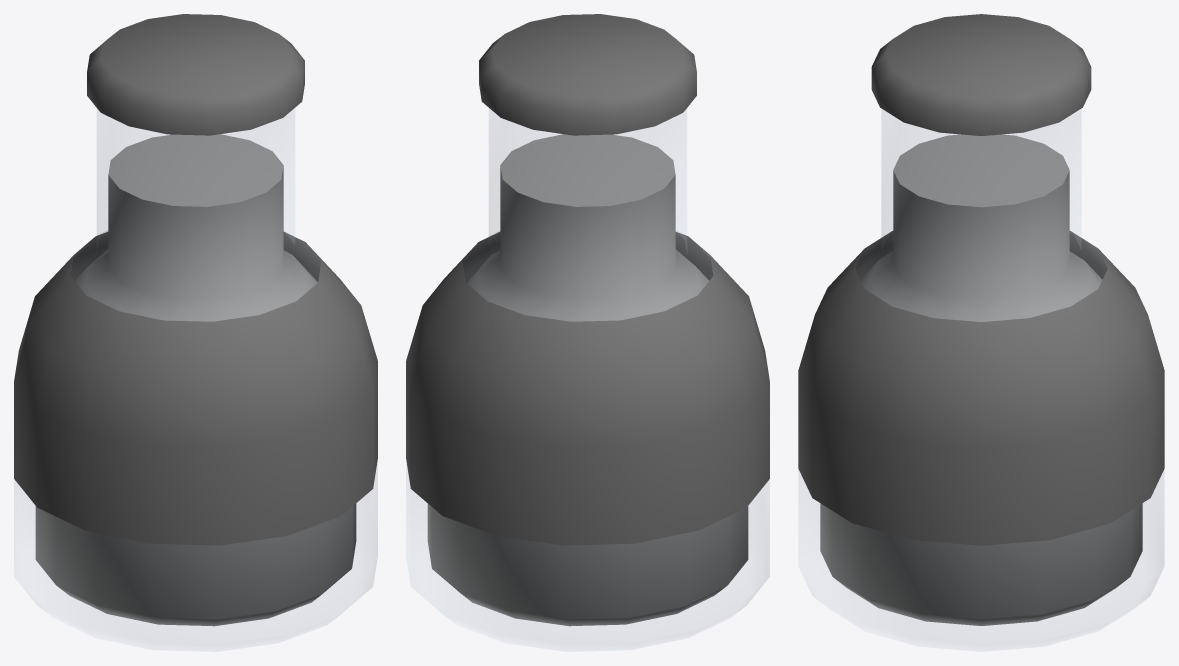
File: bottle3.fbx
3 renders of one model, left to right at view 1: azimuth 30°, elevation 25°; view 2: azimuth 150°, elevation 25°; view 3: azimuth 270°, elevation 25°, orthographic.
Parts seen in each view (by area): view 1: Bottle-3; view 2: Bottle-3; view 3: Bottle-3.
Boxes of the visible parts, box(x1,y1,x2,y2) form: Bottle-3: box(14, 14, 377, 651); Bottle-3: box(406, 14, 769, 651); Bottle-3: box(798, 14, 1164, 651).
Bounding box in the file's own units: 200 × 318 × 200.
